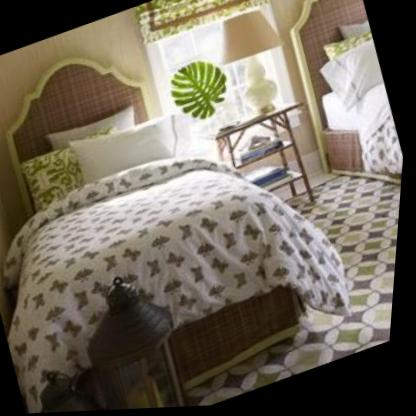Bed: (8, 57, 353, 414), (260, 0, 416, 224)
